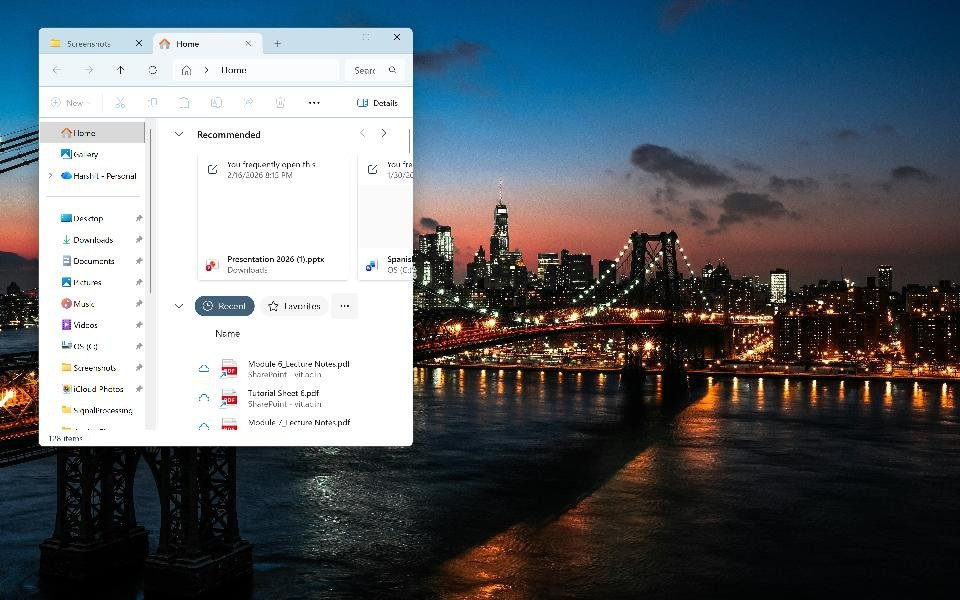close_button: (388, 31, 407, 46)
maximize_button: (357, 30, 377, 47)
minimize_button: (327, 30, 344, 47)
